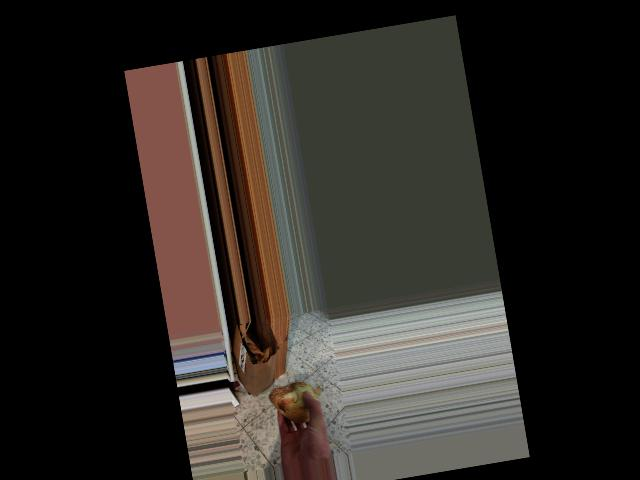onion: (266, 372, 324, 432)
